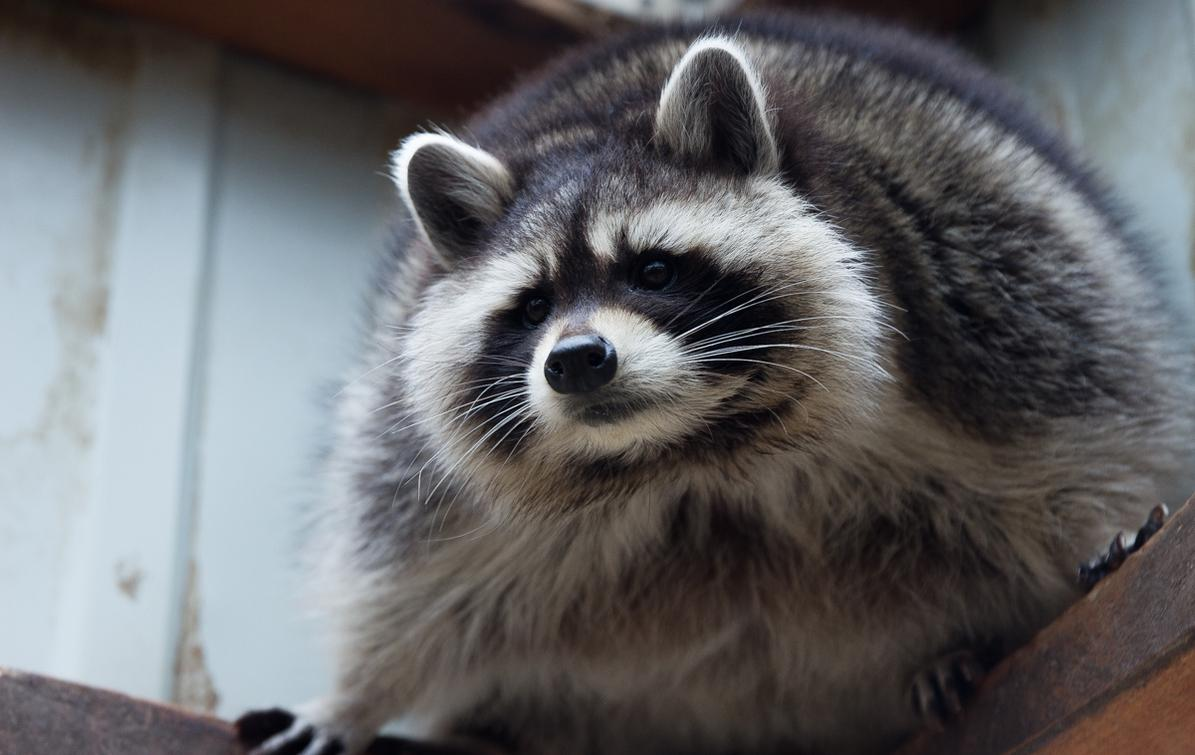raccoon: (242, 9, 1195, 755)
